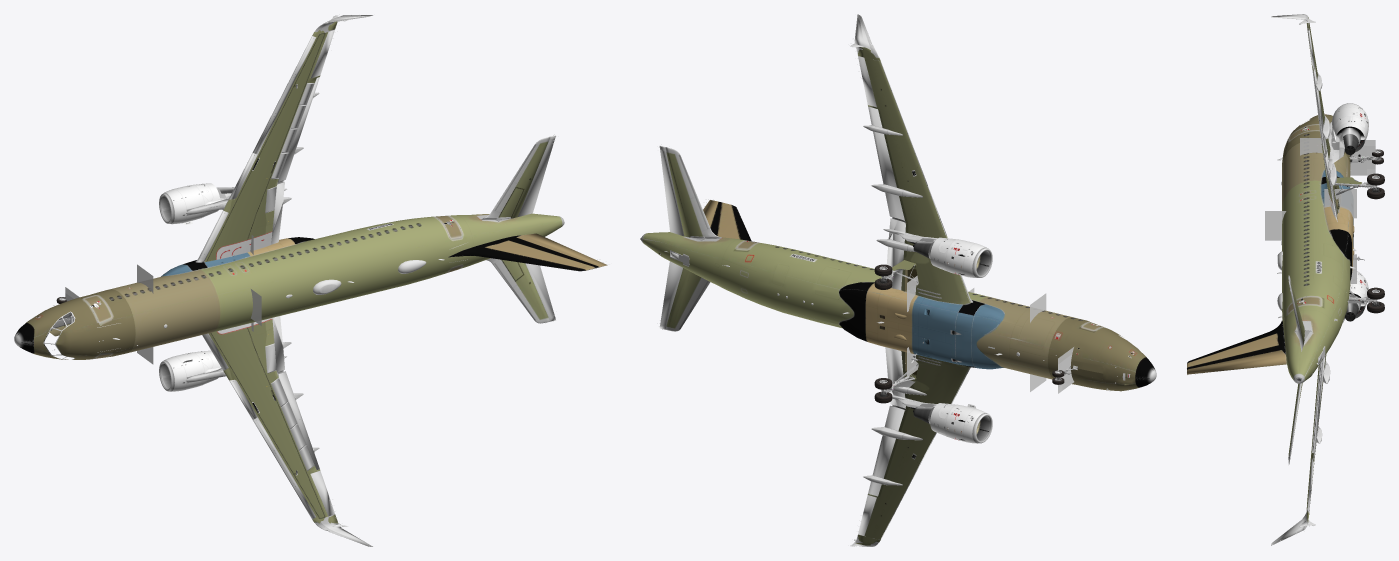
The model's file is a32x-fg.4864aefd.glb.
3 renders of one model, left to right at view 1: azimuth 30°, elevation 25°; view 2: azimuth 150°, elevation 25°; view 3: azimuth 270°, elevation 25°, orthographic.
Visible parts, largest first — view 1: Fuselage, Wings, Hstabs, EngineCFM56R, EngineCFM56L, SlatR2, SlatL2, ElevatorR, Sharklet, Rudder, FlapL2; view 2: Fuselage, Wings, Hstabs, EngineCFM56L, EngineCFM56R, FlapR2, FlapL2, ElevatorR, Cargo2, Cargo1, FlapR1, ElevatorL (+2 smaller); view 3: Fuselage, landinglightals (×4), Rudder, Wings, EngineCFM56R, beaconals, Sharklet, Hstabs, PylonCFM56R, MLGWheelsR, MLGWheelsL, Cargo2 (+4 smaller).
Part boxes in pixels (x1,y1,x2,y2): Fuselage: (14,213,598,359); Wings: (204,32,328,519); Hstabs: (481,136,549,323); EngineCFM56R: (165,183,226,224); EngineCFM56L: (164,350,221,391); SlatR2: (229,36,316,199); SlatL2: (229,379,315,519); ElevatorR: (518,134,556,216); Sharklet: (313,14,374,546); Rudder: (517,233,608,267); FlapL2: (277,371,319,469); Fuselage: (640,201,1156,391); Wings: (864,57,970,539); Hstabs: (665,147,720,331); EngineCFM56L: (930,403,985,443); EngineCFM56R: (930,237,986,277); FlapR2: (868,106,904,221); FlapL2: (868,405,904,496); ElevatorR: (659,144,684,236); Cargo2: (815,267,850,299); Cargo1: (1018,317,1054,349); FlapR1: (886,218,905,290); ElevatorL: (659,261,682,329); Fuselage: (1186,114,1356,383); landinglightals (×4): (1300,138,1375,218); Rudder: (1186,350,1286,374); Wings: (1307,25,1339,507); EngineCFM56R: (1331,103,1369,141); beaconals: (1265,211,1286,240); Sharklet: (1271,14,1308,545); Hstabs: (1288,275,1309,459); PylonCFM56R: (1328,122,1344,163); MLGWheelsR: (1367,173,1384,199); MLGWheelsL: (1367,287,1384,313); Cargo2: (1324,243,1348,272).
Size of what is drawn, in the model's own units: 37.61 by 35.77 by 12.24.
13 materials, 11 textured.
